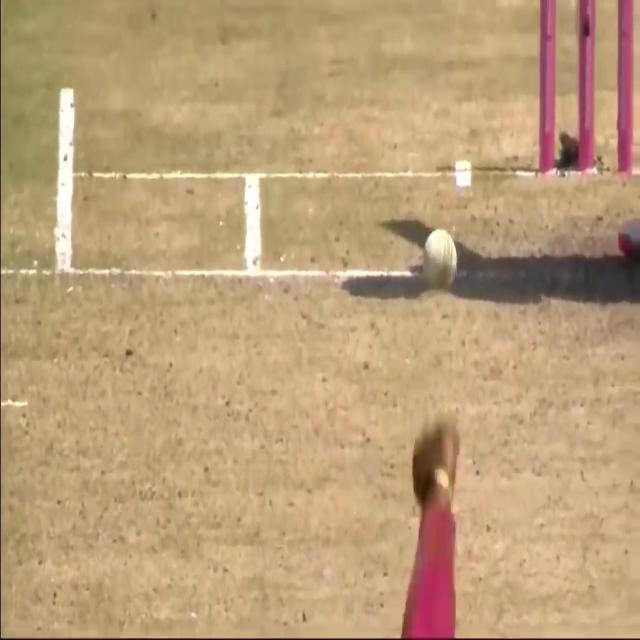Batsman: (412, 216, 465, 298)
